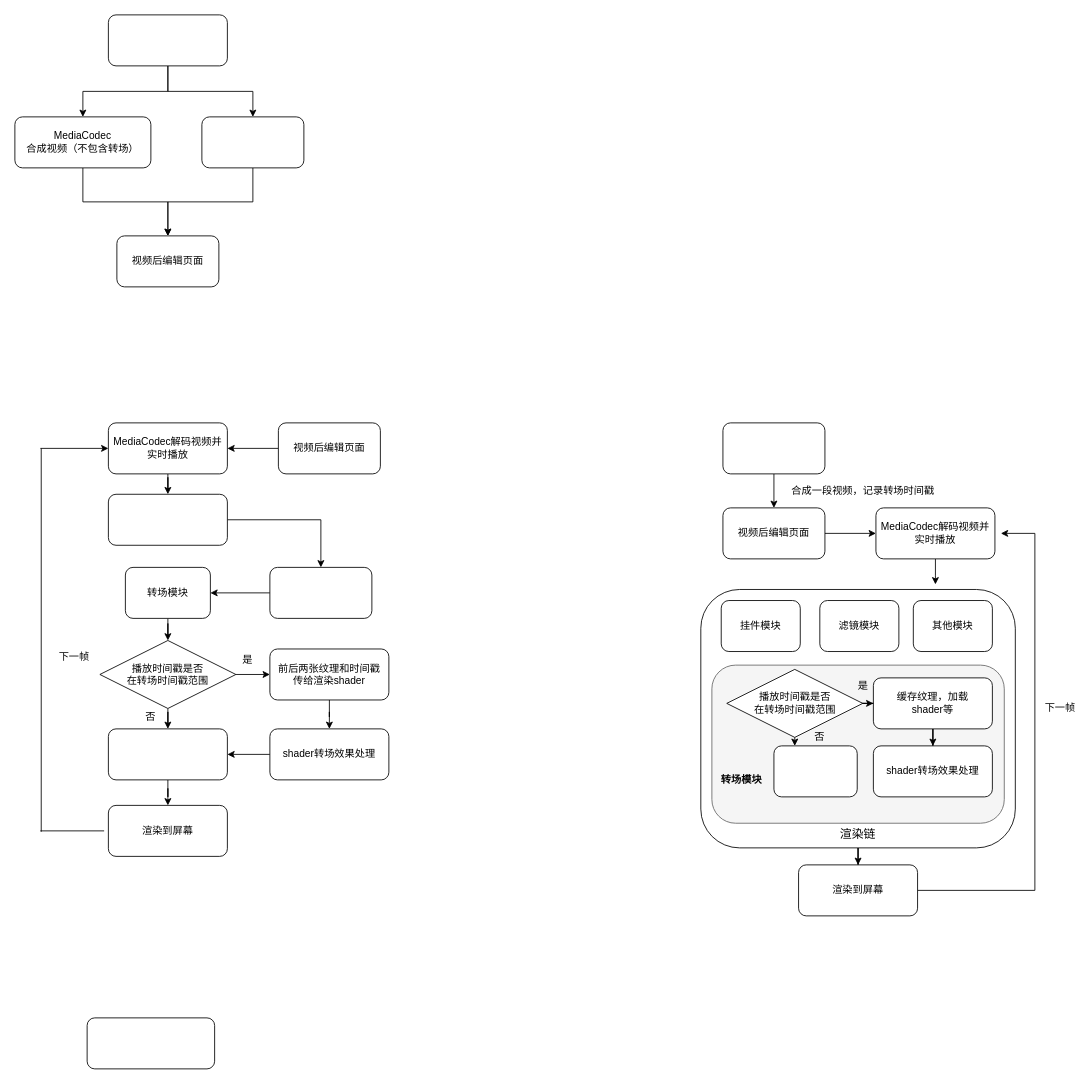
Image size: 1092x1084. Some labels were removed from this diagram. Each missing label, with the centre of its shape:
"原图输出" belongs at pixel 815 771.
"多张图片或多段视频" belongs at pixel 167 40.
"多段视频或图片" belongs at pixel 773 448.
"渲染链下一步处理" belongs at pixel 167 754.
"渲染链（OpenGL）" belongs at pixel 167 519.
"滤镜，贴纸模块等" belongs at pixel 320 592.
"获取前后两个画面的纹理 和转场进度" belongs at pixel 150 1043.
"记录所有转场时间戳到列表" belongs at pixel 252 142.
